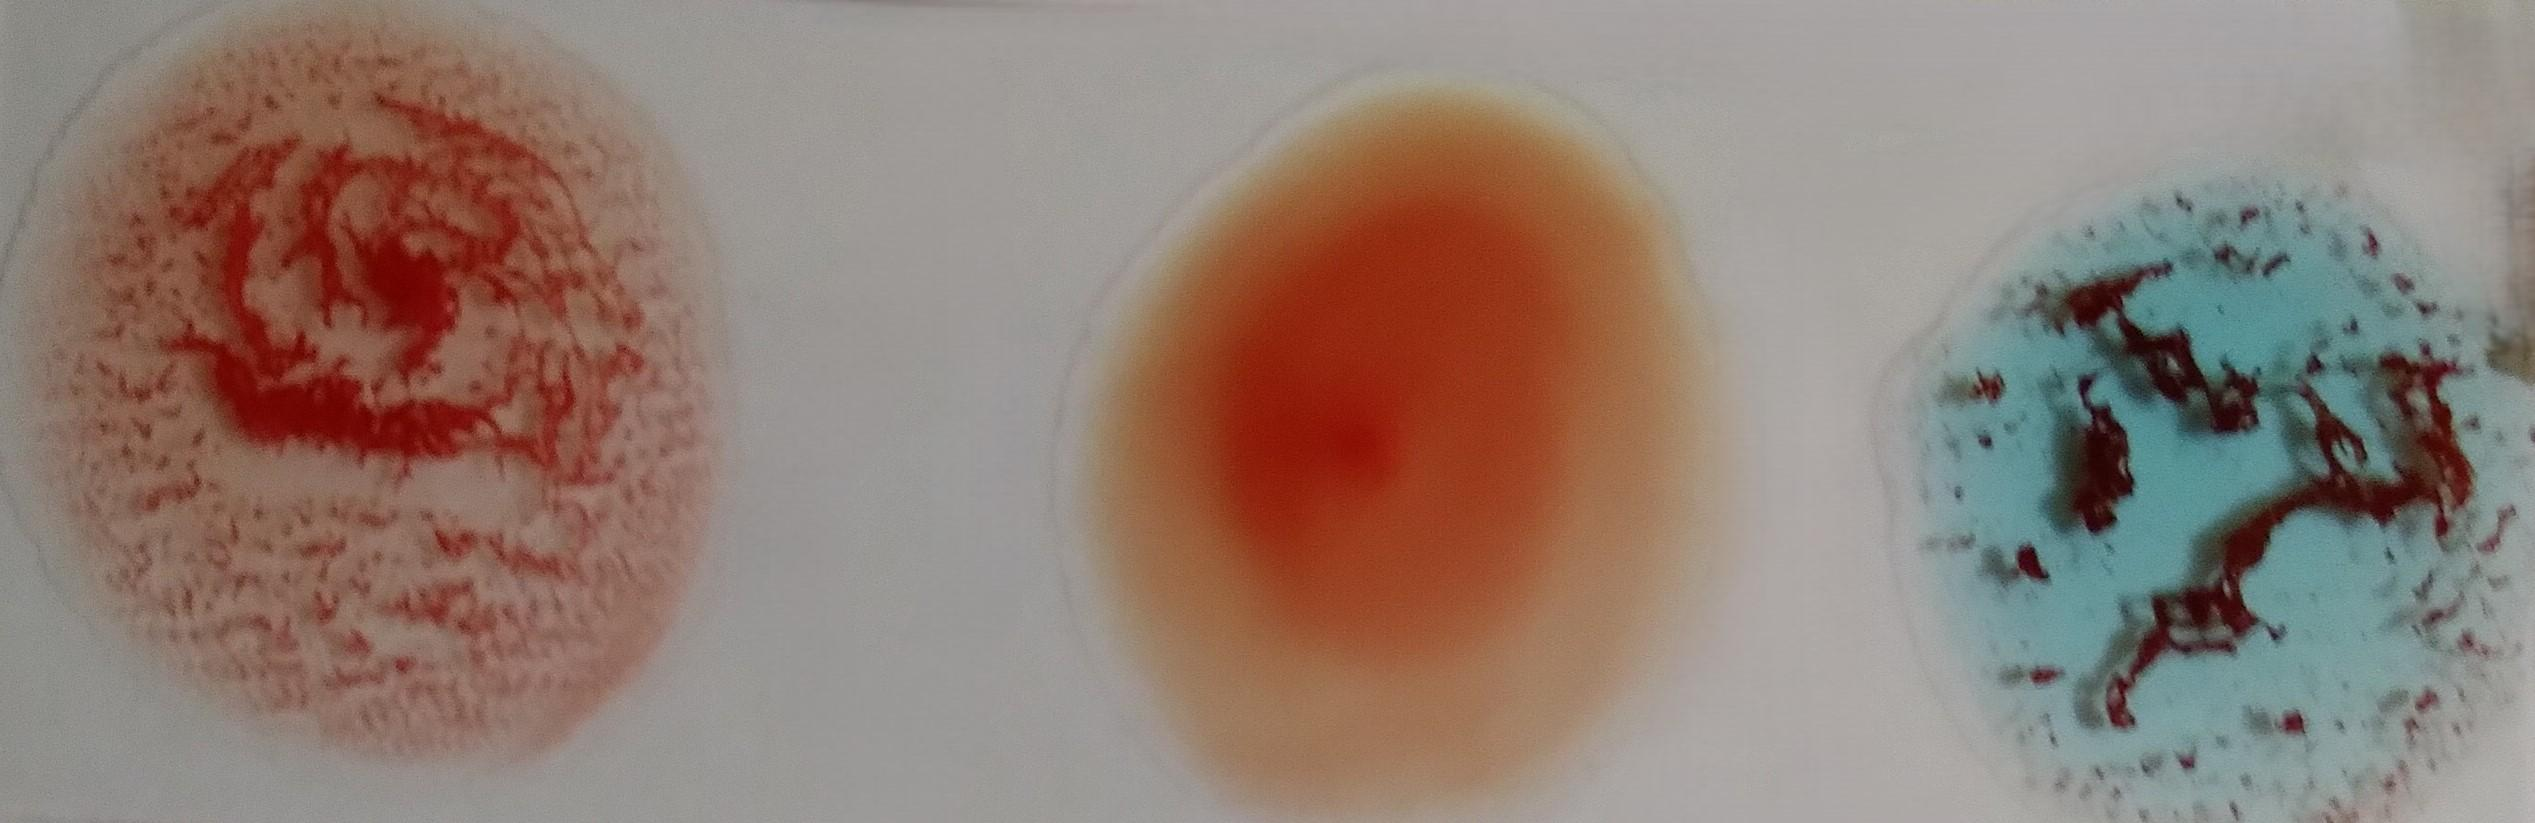A: (1906, 155, 2495, 808)
D: (16, 18, 715, 768)
